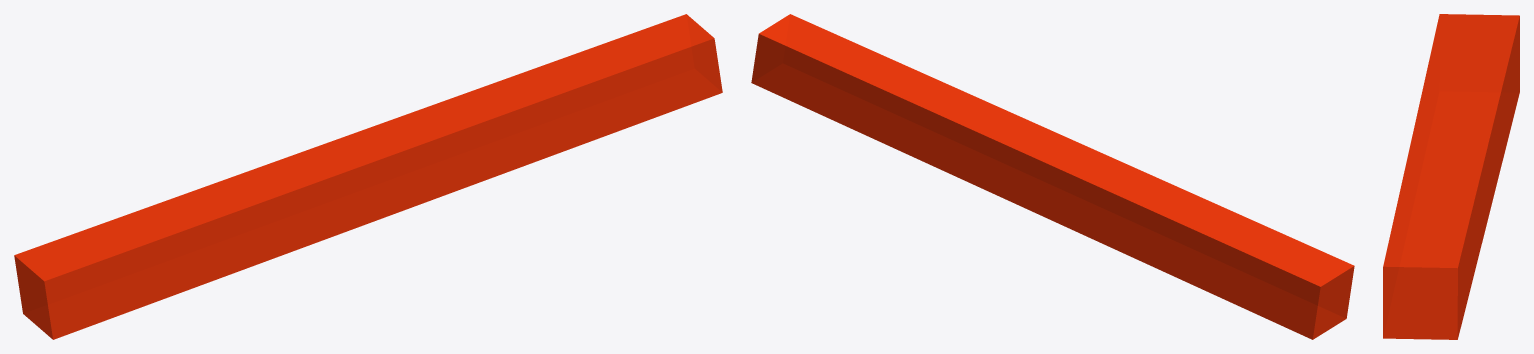
Rendered from Event_421278790_EErechit_33.fbx.
The picture shows the model from 3 angles, left to right: view 1: azimuth 30°, elevation 25°; view 2: azimuth 150°, elevation 25°; view 3: azimuth 270°, elevation 25°; orthographic projection. The views are drawn at different scales.
Visible parts, largest first — view 1: Model; view 2: Model; view 3: Model.
Boxes of the visible parts, <box> form: Model: <box>14,14,722,339</box>; Model: <box>751,14,1354,339</box>; Model: <box>1383,14,1519,339</box>.
Size of the model in its own units: 0.8751 by 0.2083 by 0.1327.
